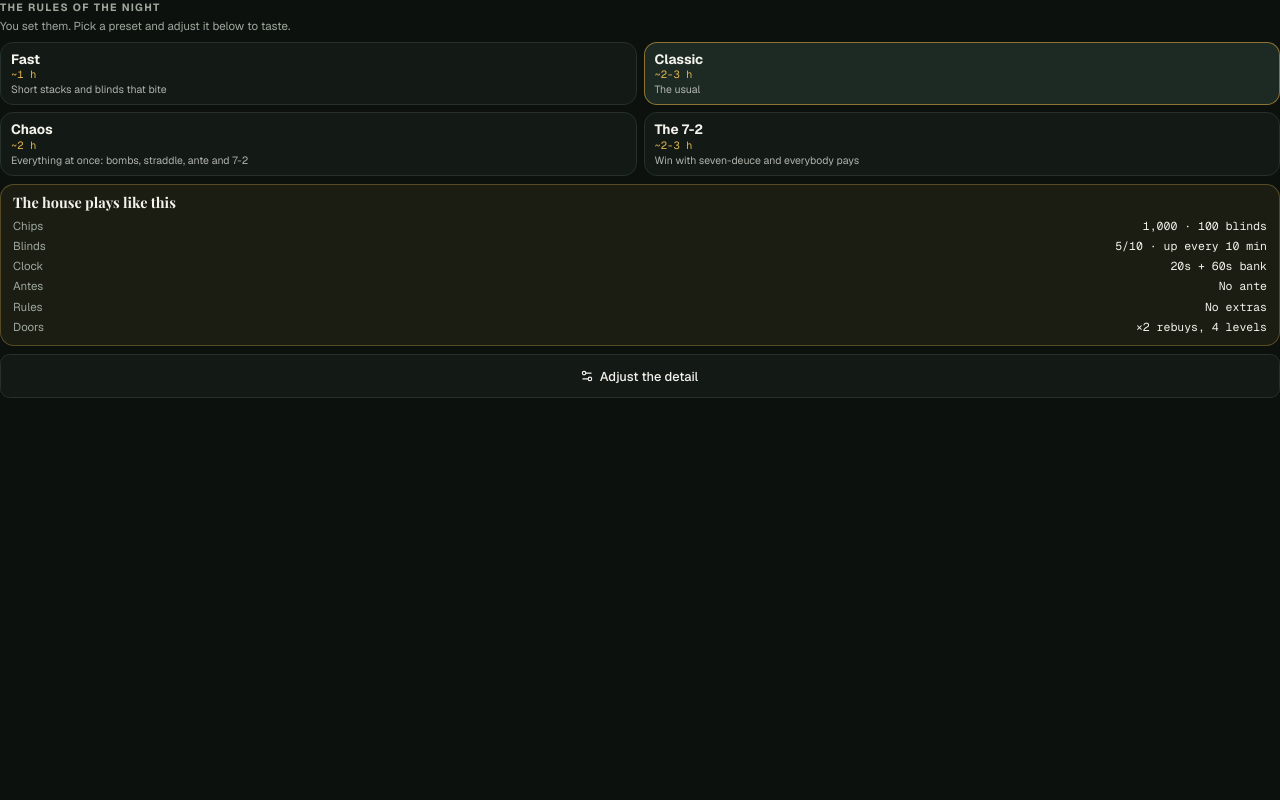
Test: a table this screen did not build › will not let the big blind sink to the small one
Step 1. Click the button "Adjust the detail" → x=640, y=376, box [0,354,1279,398]
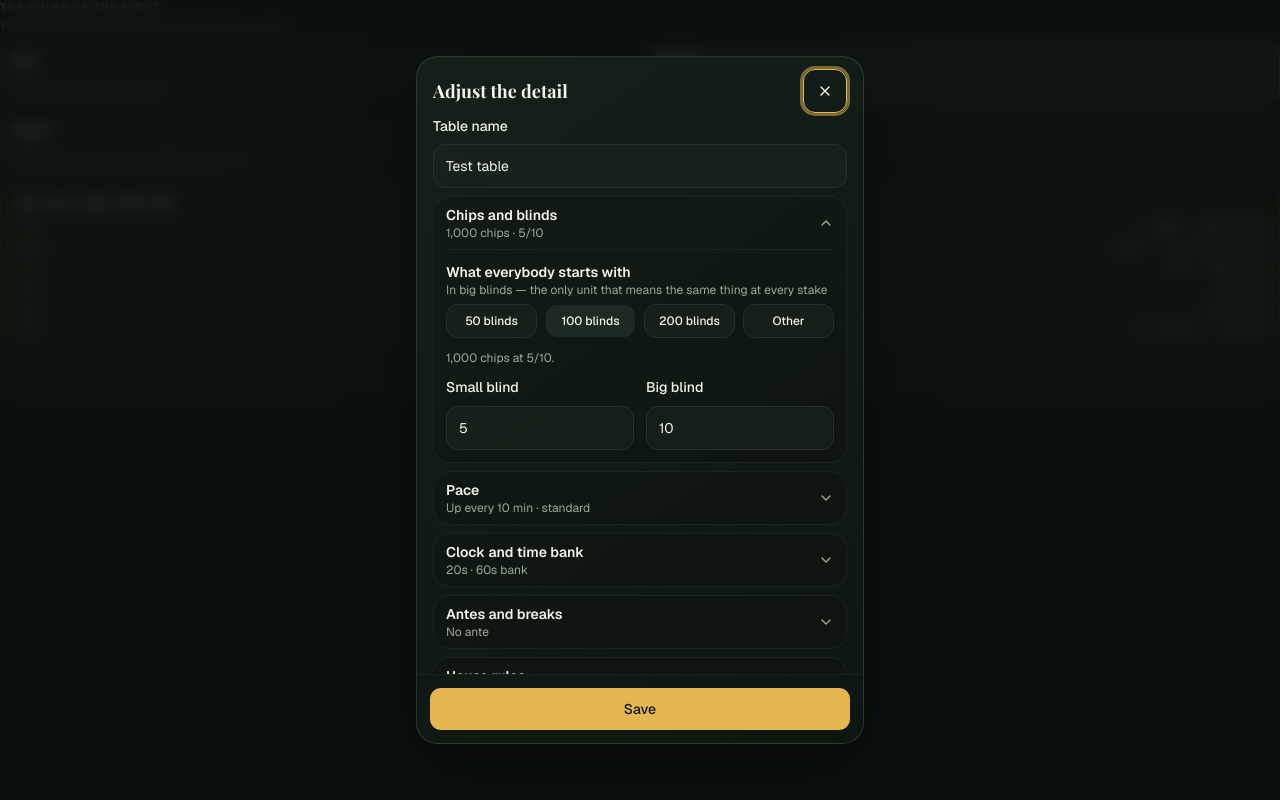
Step 2. Clear the field labelled "Big blind" → x=740, y=428, box [646,406,834,450]
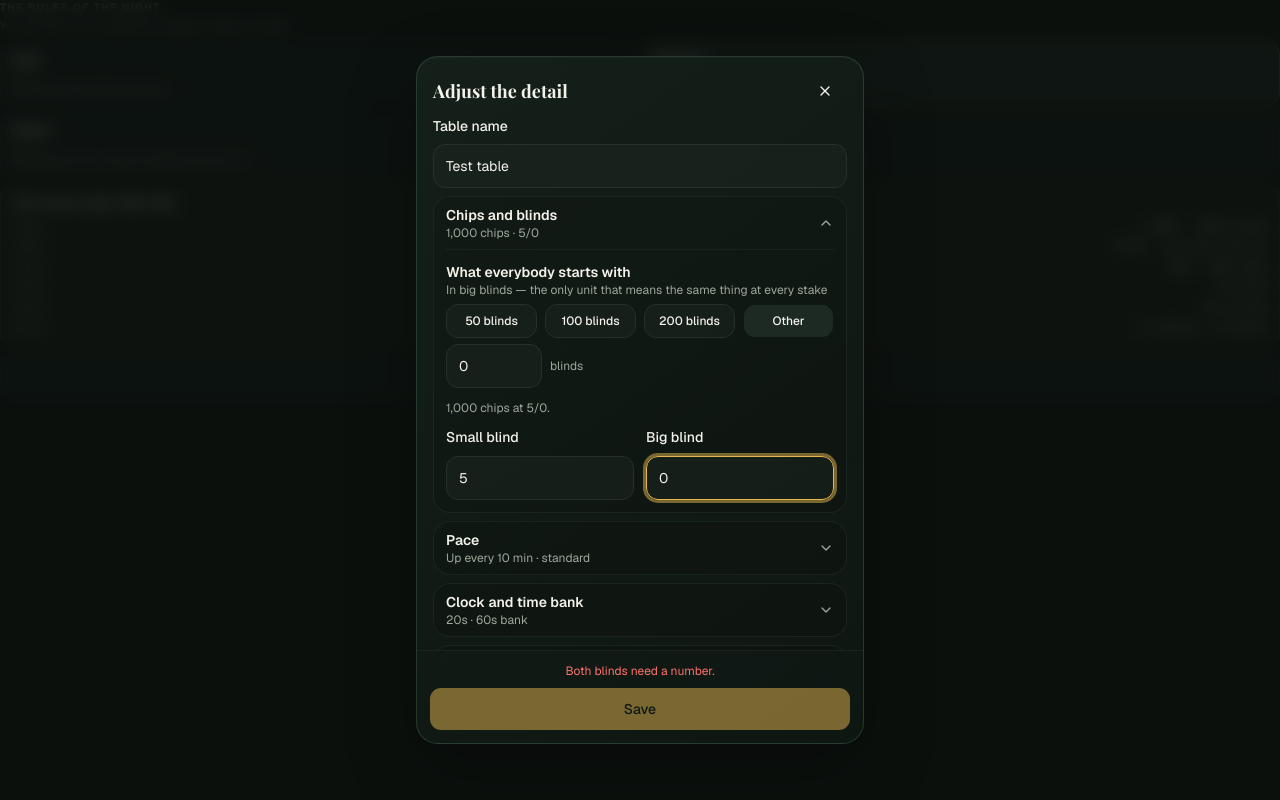
Step 3. Type "5" into the field labelled "Big blind" → x=740, y=478, box [646,456,834,500]
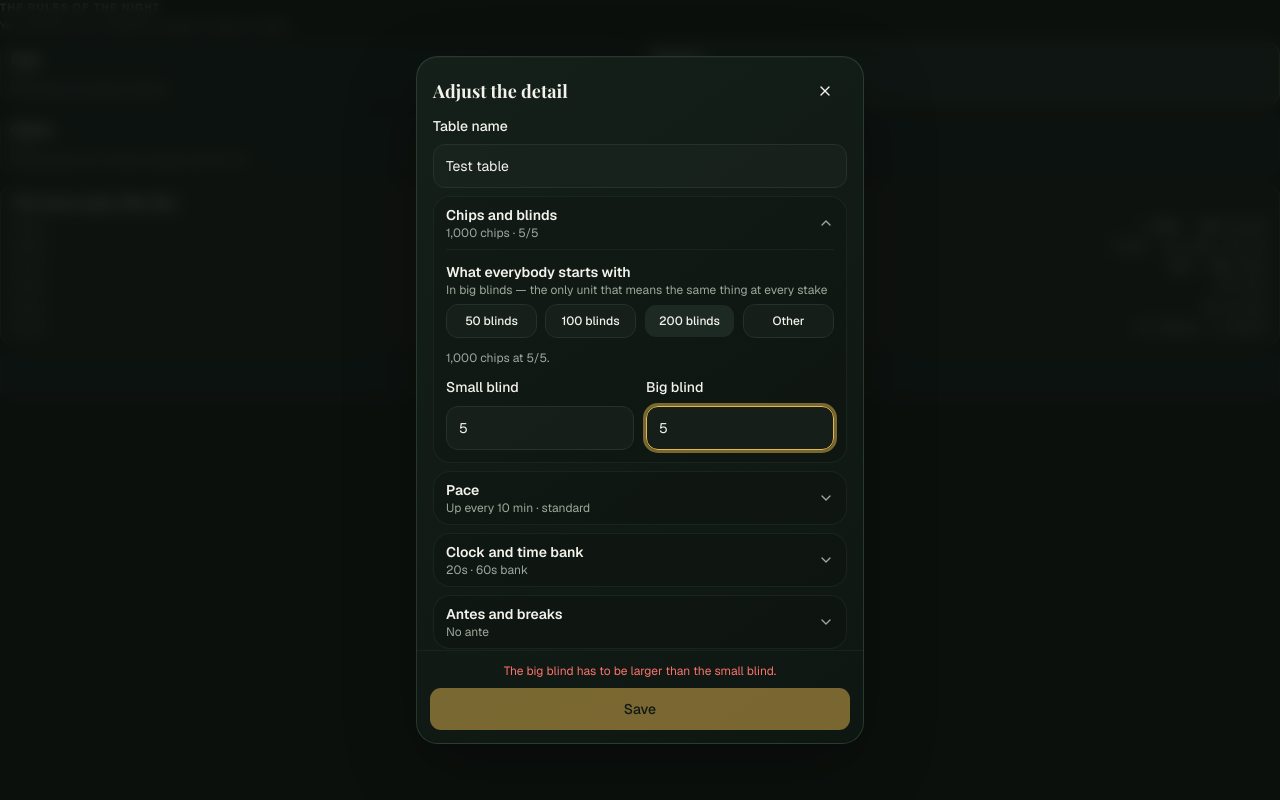
Expected: the button "Save" is disabled, [429,687,851,731]
Expected: the message reads "The big blind has to be larger than the small blind.", [504,663,776,679]
